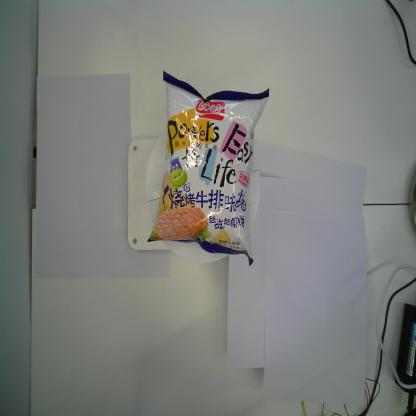Puffed Food: (145, 70, 270, 267)
